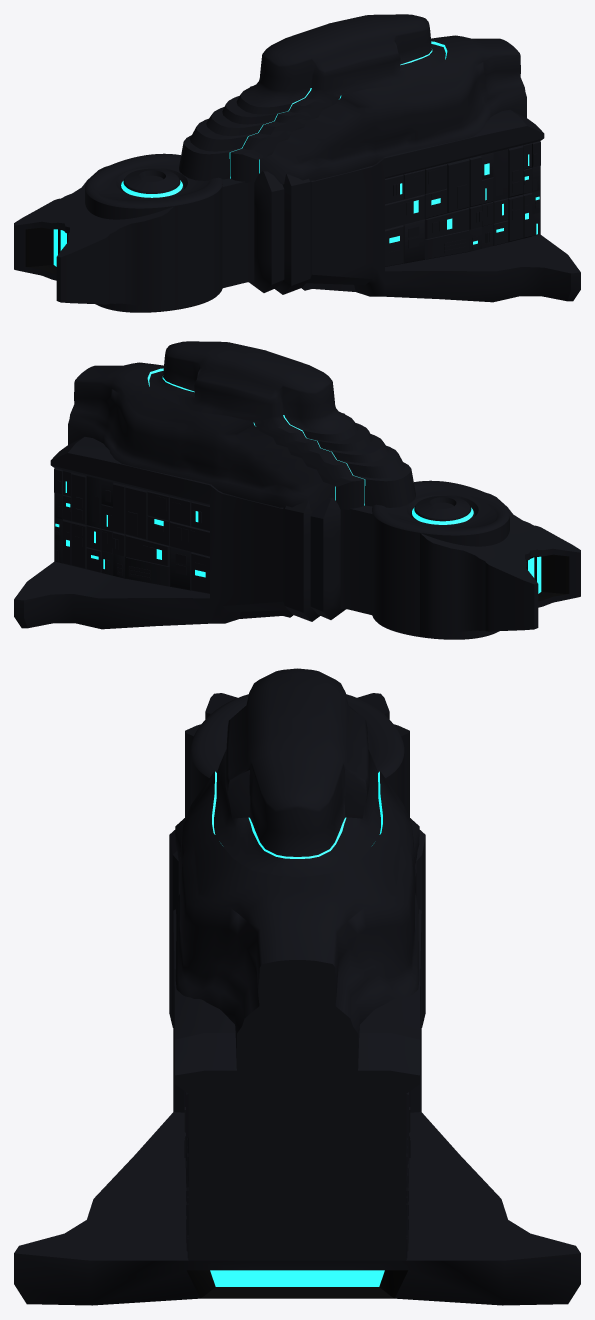
The model's file is SK_Ship_B_Body.fbx.
3 views of the same model, one above another, from view 1: azimuth 30°, elevation 25°; view 2: azimuth 150°, elevation 25°; view 3: azimuth 270°, elevation 25° (orthographic). The views are drawn at different scales.
Visible parts, largest first — view 1: SK_Ship_B_Body; view 2: SK_Ship_B_Body; view 3: SK_Ship_B_Body.
Part boxes in pixels (<box>): SK_Ship_B_Body: <box>14,14,580,312</box>; SK_Ship_B_Body: <box>14,341,580,639</box>; SK_Ship_B_Body: <box>14,668,580,1305</box>.
Bounding box in the file's own units: 555 × 294 × 322.
